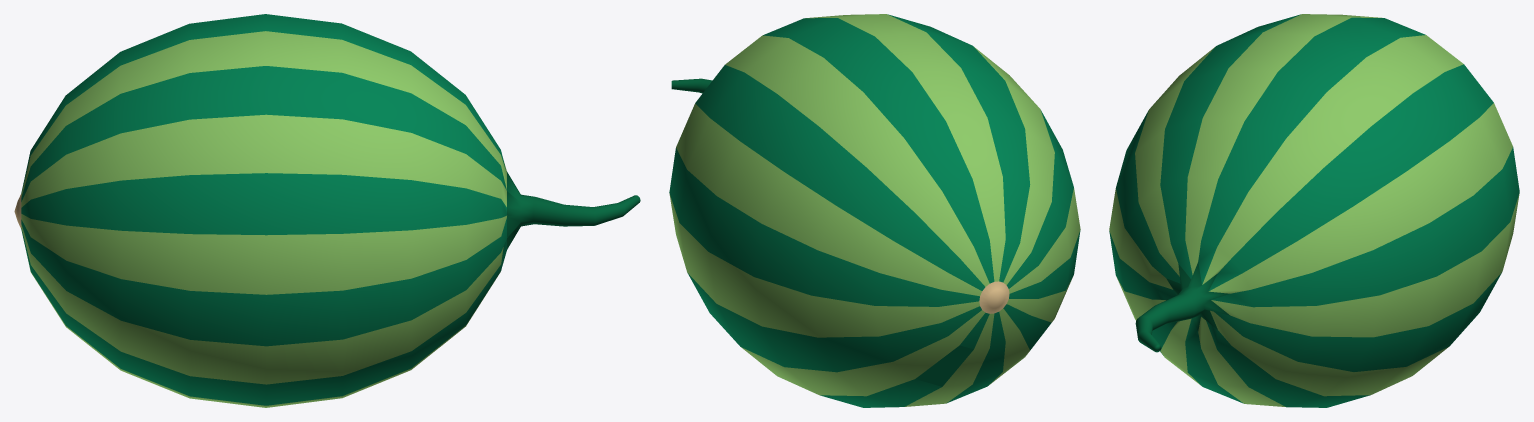
The model's file is food_watermelon.glb.
The picture shows the model from 3 angles, left to right: view 1: azimuth 30°, elevation 25°; view 2: azimuth 150°, elevation 25°; view 3: azimuth 270°, elevation 25°; orthographic projection. The views are drawn at different scales.
Parts seen in each view (by area): view 1: food_watermelon; view 2: food_watermelon; view 3: food_watermelon.
Boxes of the visible parts, bbox=[...] form: food_watermelon: bbox=[14, 14, 640, 407]; food_watermelon: bbox=[669, 14, 1080, 407]; food_watermelon: bbox=[1109, 14, 1519, 407].
Bounding box in the file's own units: 89.29 × 62 × 66.08.
1 material, 1 textured.
